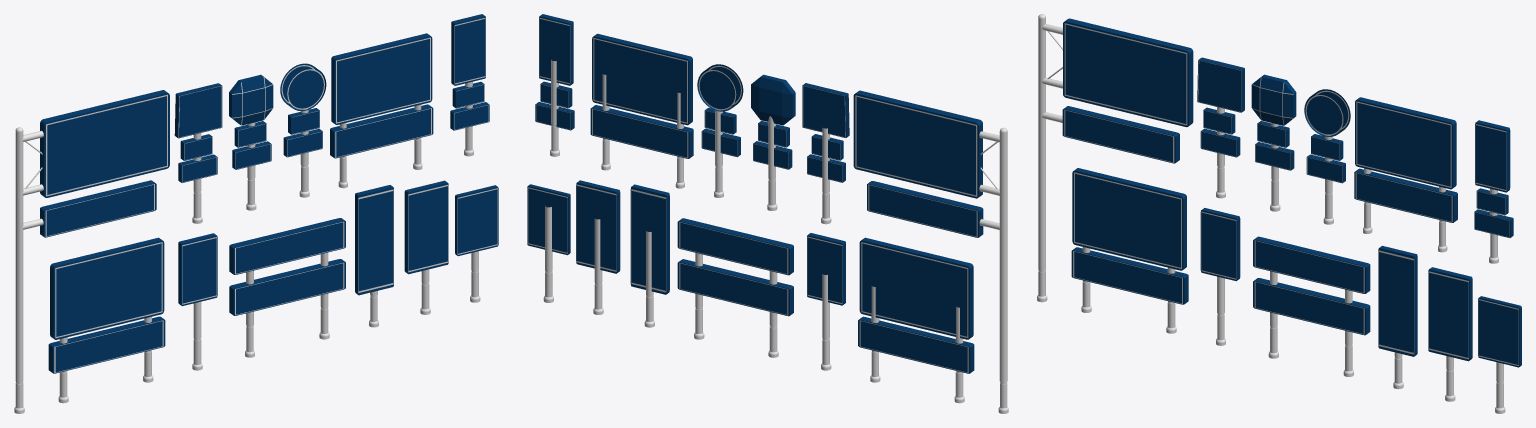
Rendered from Direction_Sign_Board.fbx.
3 renders of one model, left to right at view 1: azimuth 30°, elevation 25°; view 2: azimuth 150°, elevation 25°; view 3: azimuth 330°, elevation 25°, orthographic.
Visible parts, largest first — view 1: Plane, Plane.002, Cylinder.004, Plane.016, Plane.007, Plane.008, Plane.005, Plane.001, Plane.003, Plane.006, Plane.017, Plane.009 (+13 smaller); view 2: Cylinder.004, Plane, Plane.002, Plane.016, Plane.007, Plane.005, Plane.001, Plane.003, Plane.006, Plane.008, Plane.017, Plane.009 (+13 smaller); view 3: Plane, Plane.002, Cylinder.004, Plane.016, Plane.007, Plane.008, Plane.001, Plane.005, Plane.003, Plane.006, Plane.017, Plane.009 (+13 smaller).
Part boxes in pixels (box(x1,y1,x2,y2)): Plane: box(40, 90, 169, 197); Plane.002: box(50, 237, 164, 339); Cylinder.004: box(14, 81, 480, 413); Plane.016: box(331, 33, 432, 124); Plane.007: box(355, 185, 393, 295); Plane.008: box(404, 180, 448, 274); Plane.005: box(229, 218, 345, 274); Plane.001: box(40, 180, 156, 237); Plane.003: box(48, 316, 165, 373); Plane.006: box(229, 259, 345, 315); Plane.017: box(330, 104, 433, 158); Plane.009: box(455, 185, 498, 256); Cylinder.004: box(543, 60, 1008, 413); Plane: box(853, 90, 982, 198); Plane.002: box(859, 237, 973, 339); Plane.016: box(592, 33, 692, 125); Plane.007: box(630, 184, 669, 294); Plane.005: box(677, 218, 793, 275); Plane.001: box(867, 181, 983, 237); Plane.003: box(858, 316, 974, 373); Plane.006: box(677, 259, 793, 316); Plane.008: box(576, 180, 620, 273); Plane.017: box(590, 105, 693, 158); Plane.009: box(527, 184, 570, 255); Plane: box(1063, 18, 1193, 127); Plane.002: box(1072, 168, 1186, 270); Cylinder.004: box(1037, 14, 1505, 413); Plane.016: box(1355, 97, 1456, 189); Plane.007: box(1378, 245, 1417, 356); Plane.008: box(1428, 267, 1472, 361); Plane.001: box(1062, 106, 1179, 163); Plane.005: box(1253, 236, 1370, 293); Plane.003: box(1071, 247, 1188, 304); Plane.006: box(1253, 278, 1370, 335); Plane.017: box(1354, 168, 1457, 222); Plane.009: box(1478, 296, 1521, 367).
Size of what is drawn, in the model's own units: 1339 by 757 by 29.38.
